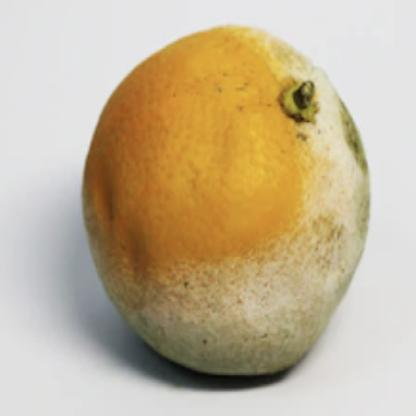rotten: (80, 25, 368, 384)
